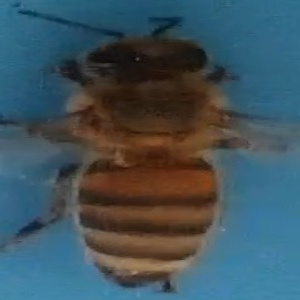bee: (10, 14, 248, 294)
